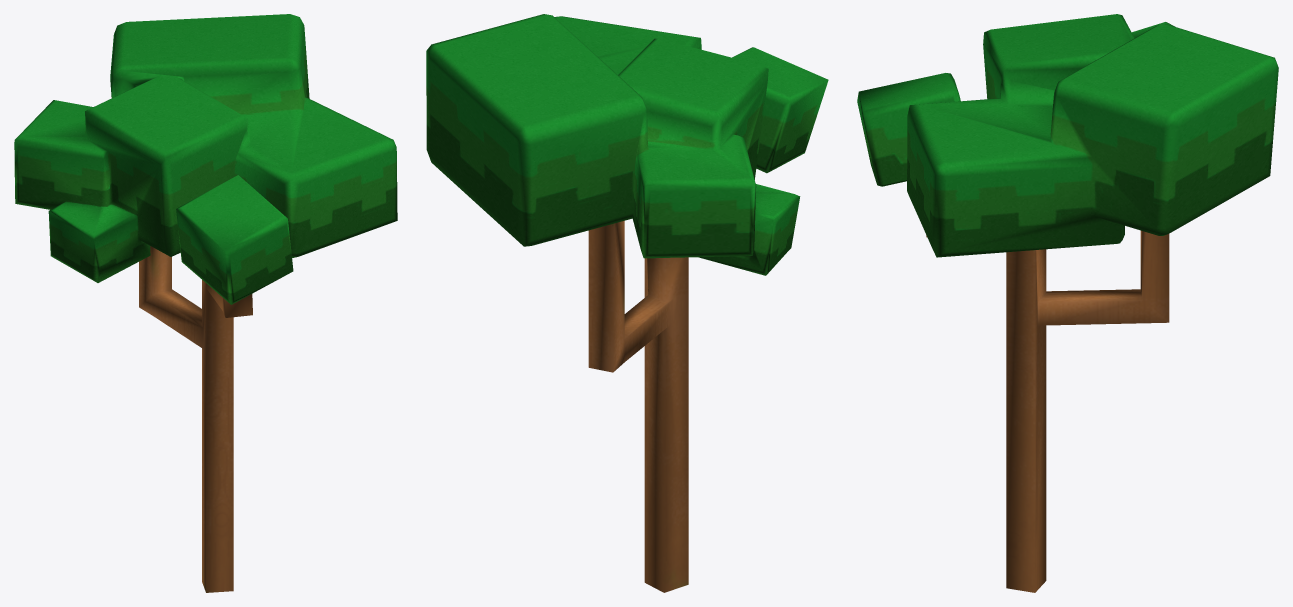
Rendered from tree2.fbx.
The picture shows the model from 3 angles, left to right: view 1: azimuth 30°, elevation 25°; view 2: azimuth 150°, elevation 25°; view 3: azimuth 270°, elevation 25°; orthographic projection. The views are drawn at different scales.
Parts seen in each view (by area): view 1: old_tree; view 2: old_tree; view 3: old_tree.
Boxes of the visible parts, box(x1,y1,x2,y2) form: old_tree: box(14, 14, 397, 592); old_tree: box(426, 14, 828, 592); old_tree: box(857, 14, 1278, 592).
Size of the model in its own units: 183 by 298 by 206.
